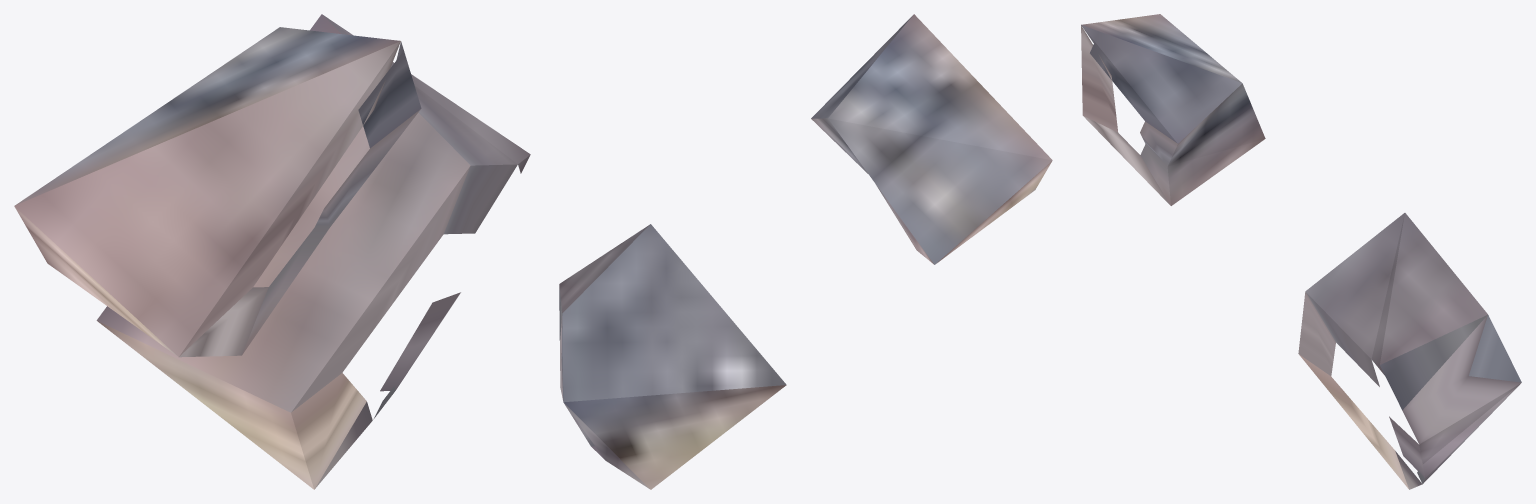
The picture shows the model from 3 angles, left to right: view 1: azimuth 30°, elevation 25°; view 2: azimuth 150°, elevation 25°; view 3: azimuth 270°, elevation 25°; orthographic projection. The views are drawn at different scales.
Bounding box in the file's own units: 18.68 × 17.79 × 17.35.
Materials: 1 (1 with a texture image).
